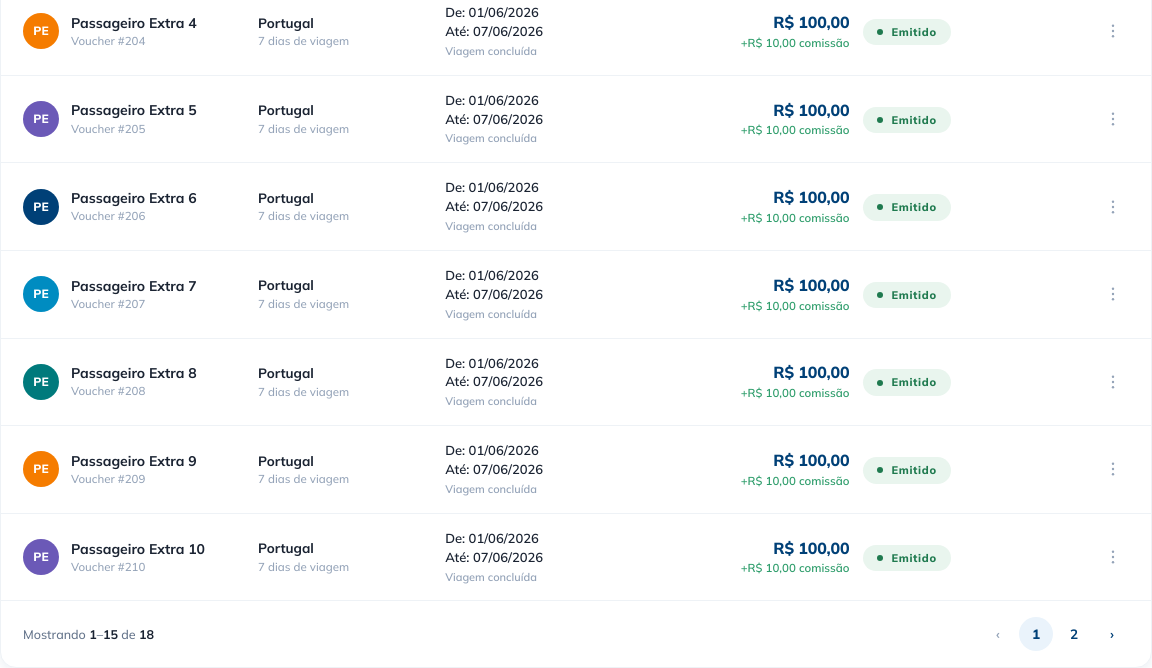
VouchersListSection › paginação navega entre páginas (PER_PAGE = 15)
(page scrolled)
Expected: the text "Passageiro Extra 13" is not shown
Click the button "2" at [1074, 634], box [1057,617,1091,651]
(page scrolled)
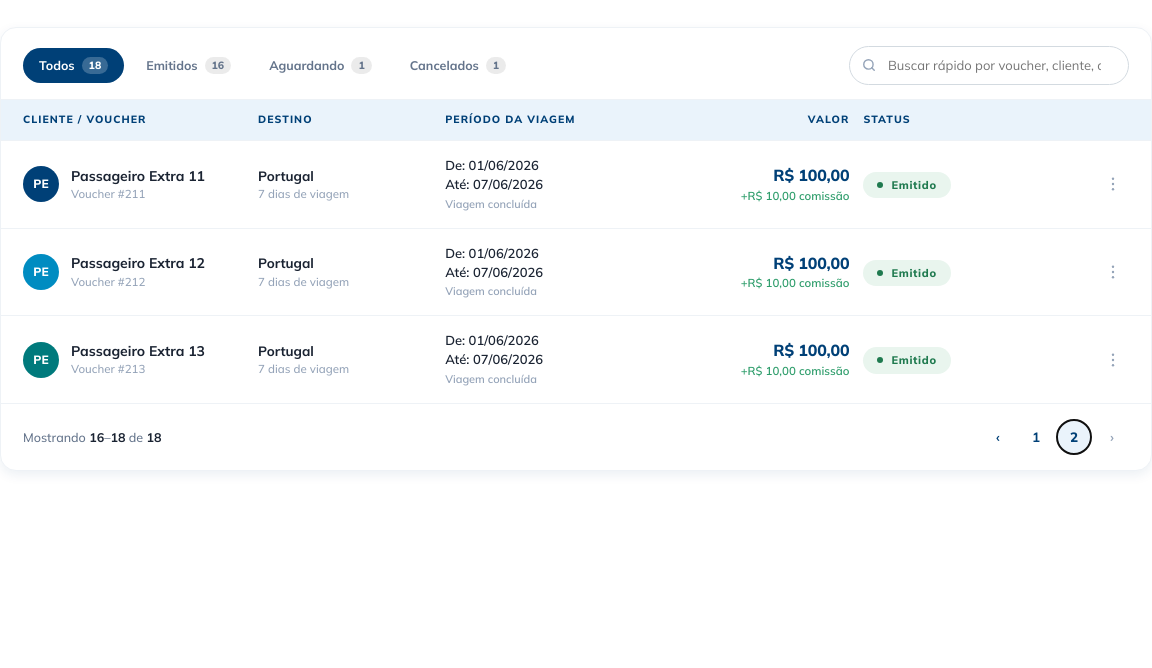
Result: the text "Passageiro Extra 13" is shown at [71,342,205,360]
